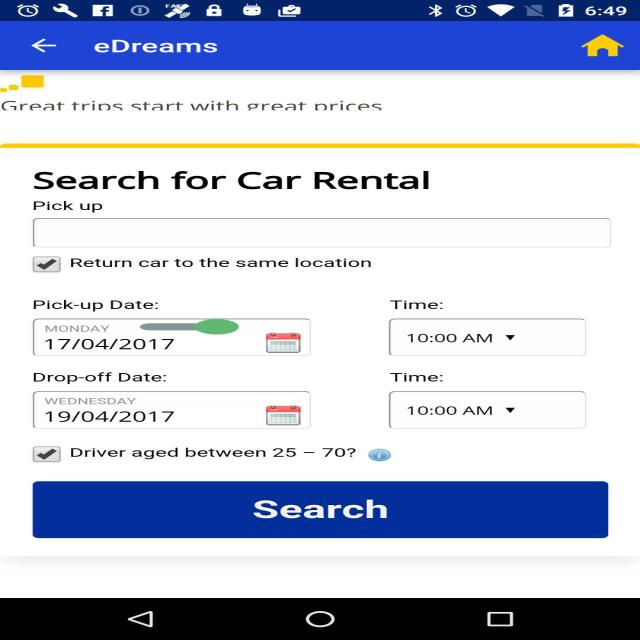social proof: (140, 310, 239, 344)
